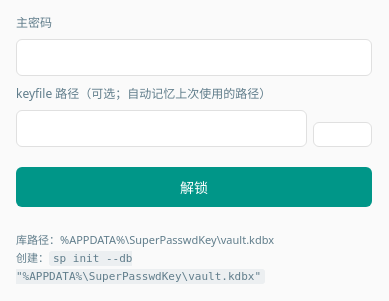
Test: UnlockPanel › 浏览按钮选择文件填入路径
Click the button with class "browse" at (342, 134), box [312,122,372,147]
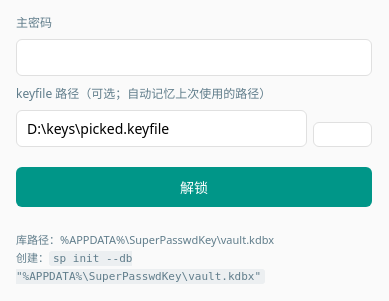
Now the field labelled "keyfile 路径（可选；自动记忆上次使用的路径）" holds "D:\\keys\\picked.keyfile", box [16,110,306,147]
